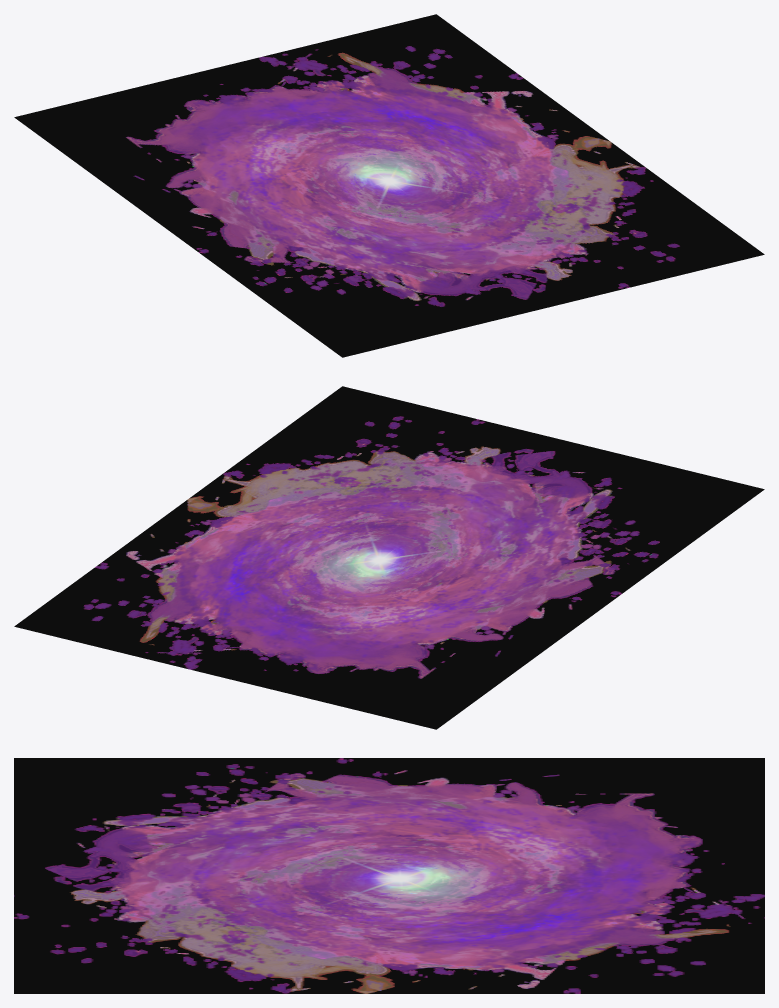
Rendered from rug.obj.
3 views of the same model, one above another, from view 1: azimuth 30°, elevation 25°; view 2: azimuth 150°, elevation 25°; view 3: azimuth 270°, elevation 25° (orthographic). The views are drawn at different scales.
Parts seen in each view (by area): view 1: pPlane1; view 2: pPlane1; view 3: pPlane1.
Boxes of the visible parts, box(x1,y1,x2,y2) form: pPlane1: box(14, 14, 764, 357); pPlane1: box(14, 386, 764, 729); pPlane1: box(14, 758, 764, 993).
Size of the model in its own units: 0.7426 by 0 by 1.
1 material, 1 textured.
